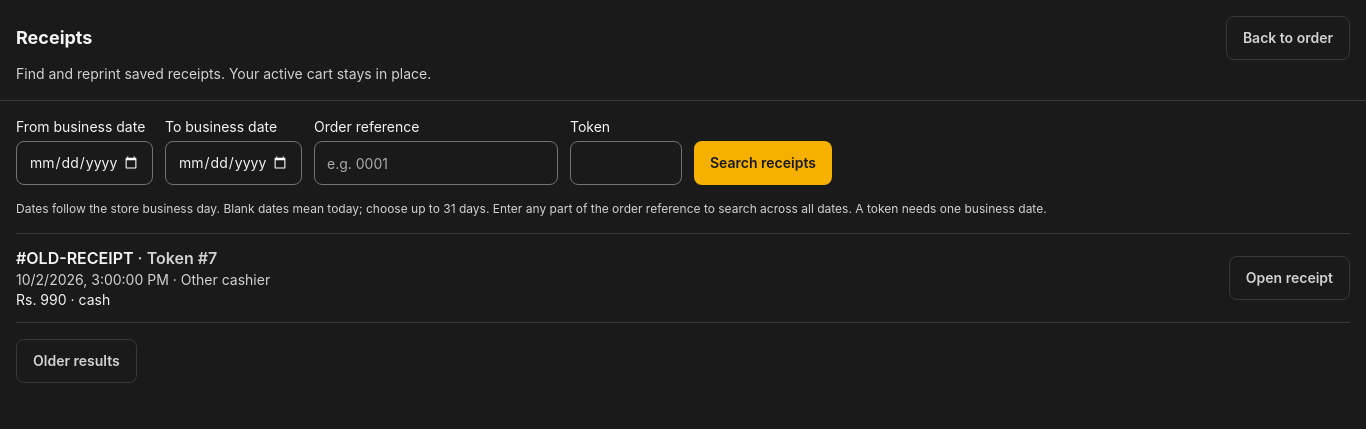
Test: cashier receipt search › pages using the server cursor and the same business-date filters
Type "123" into the field labelled "Order reference" at [436, 163], box x1=314 y1=141 x2=558 y2=185
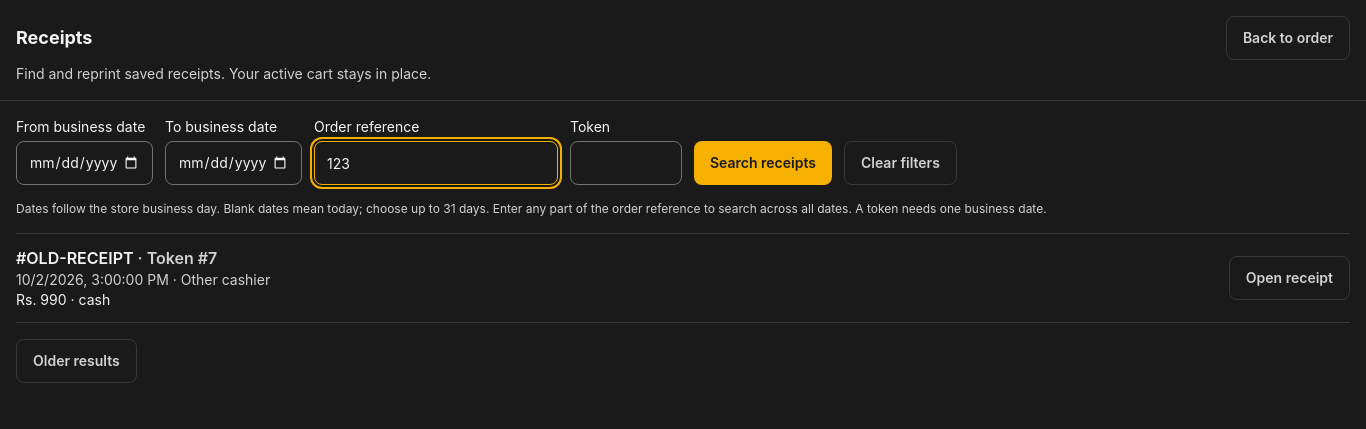
expect the text "#OLD-RECEIPT" is shown: met, box x1=16 y1=248 x2=134 y2=268
Click the button "Older results" at [76, 361], box x1=16 y1=339 x2=137 y2=383
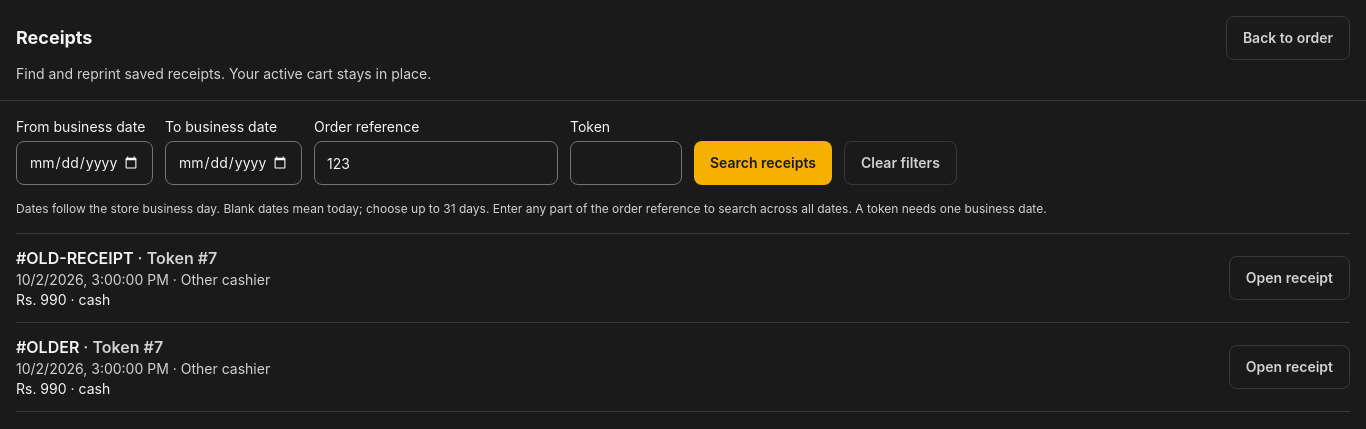
expect the text "#OLD-RECEIPT" is shown: met, box x1=16 y1=248 x2=134 y2=268
expect the text "#OLDER" is shown: met, box x1=16 y1=337 x2=79 y2=357
